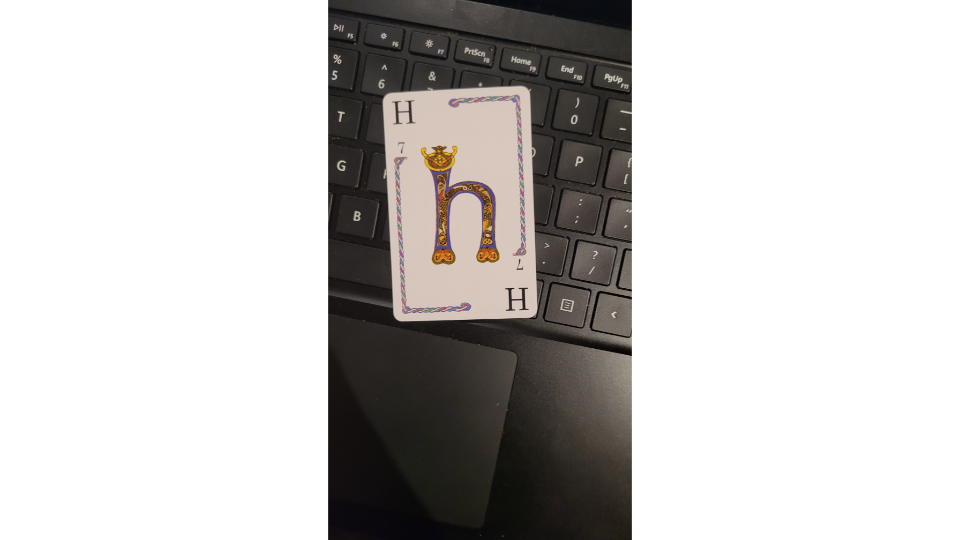H: (379, 84, 544, 323)
